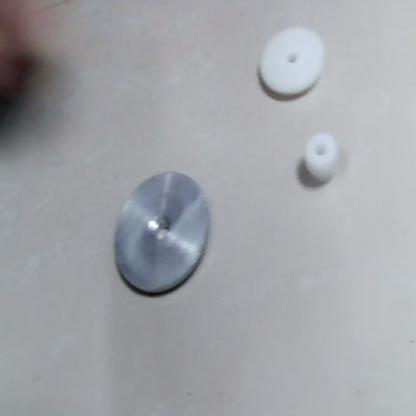FOD: (113, 168, 214, 301), (256, 22, 327, 102), (294, 126, 345, 189)
